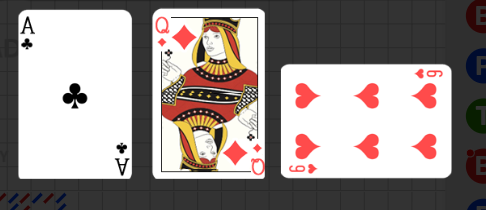6H: (288, 162, 319, 175), (413, 68, 444, 81)
AC: (113, 139, 130, 177)
QD: (208, 132, 252, 179), (141, 12, 185, 58)
